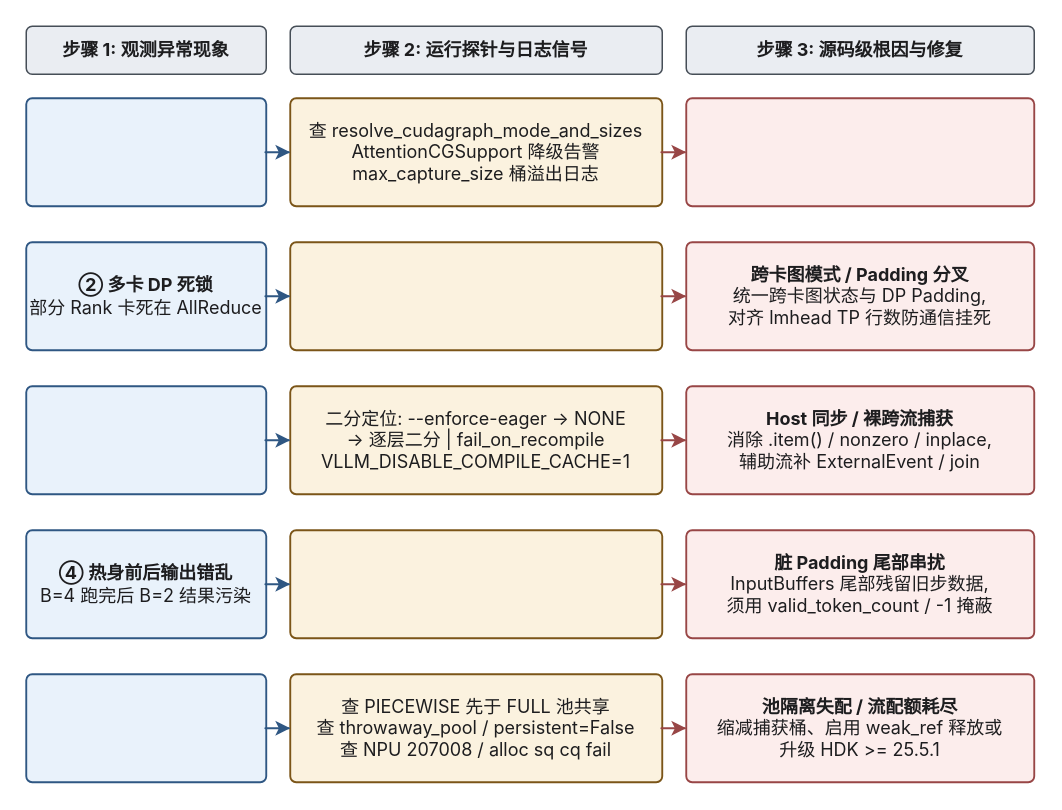
Image size: 1062x810. Some labels were removed from this diagram. The centre of each missing label's shape, as x and y in pixels:
"DEBUG 校验 input_addresses 复用 检查尾部是否填 PAD_SLOT_ID = -1 msprobe AclGraphDumper 逐层比对" goes at (476,584).
"① 吞吐腰斩 / 高 TPOT 疑为静默回退 Eager/Piecewise" goes at (146,152).
"③ 捕获崩溃 / 挂死 Warmup 报错或重放无响应" goes at (146,440).
"⑤ 捕获池 / 207008 OOM 捕获爆显存或 Sleep 唤醒崩" goes at (146,728).
"查 dispatch_cg_and_sync_dp 各 Rank cudagraph_mode 一致性 核对空 Rank Dummy 批参与状态" goes at (476,296).
"模式静默降级 例如 dp>1 + deepep_high_throughput 强制回落 NONE 或 PIECEWISE" goes at (860,152).
